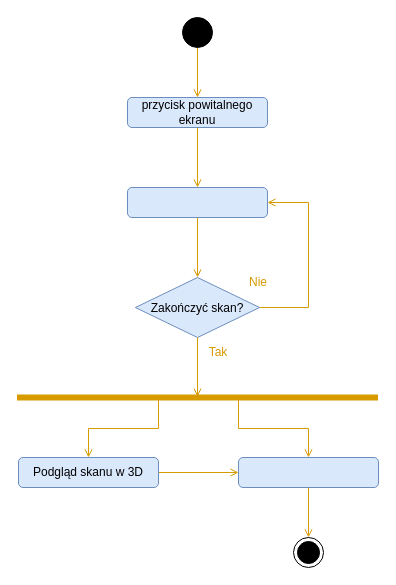
Image size: 396x585. Some labels were removed from this diagram. Here are the shapes that lost their labels. From the top down, the centre of each, then its label:
the point at 197,202: kafelek odczytaj
the point at 308,472: Zapisz skan
